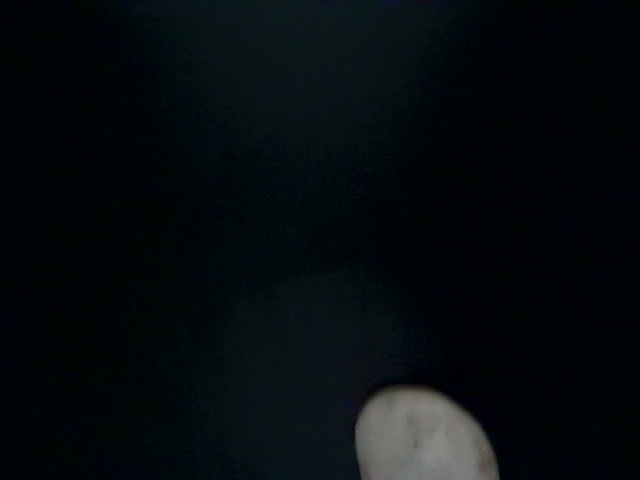QTLJ: (271, 1, 527, 198)
